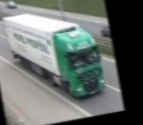truck: (0, 0, 109, 115)
